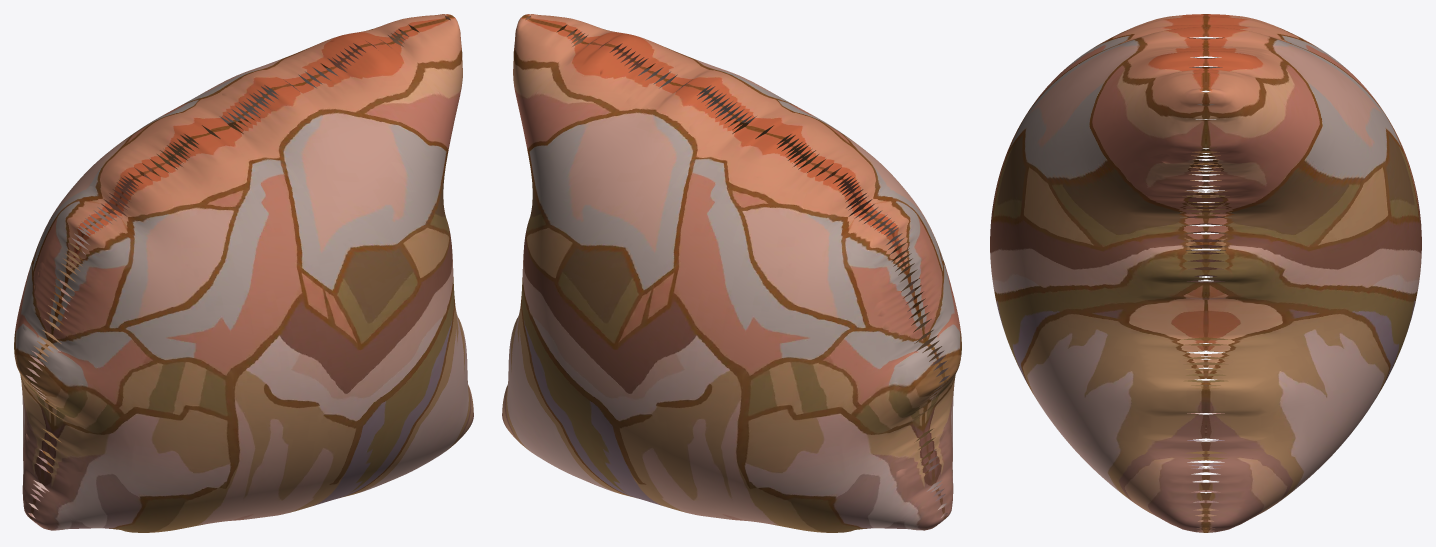
Rendered from rust_cliff.glb.
3 renders of one model, left to right at view 1: azimuth 30°, elevation 25°; view 2: azimuth 150°, elevation 25°; view 3: azimuth 270°, elevation 25°, orthographic. The views are drawn at different scales.
Parts seen in each view (by area): view 1: rust_cliff; view 2: rust_cliff; view 3: rust_cliff.
Part boxes in pixels (<box>): rust_cliff: <box>14,14,473,532</box>; rust_cliff: <box>502,14,961,532</box>; rust_cliff: <box>990,14,1421,532</box>.
Size of the model in its own units: 0.9887 by 0.9351 by 0.7853.
Materials: 1 (1 with a texture image).
